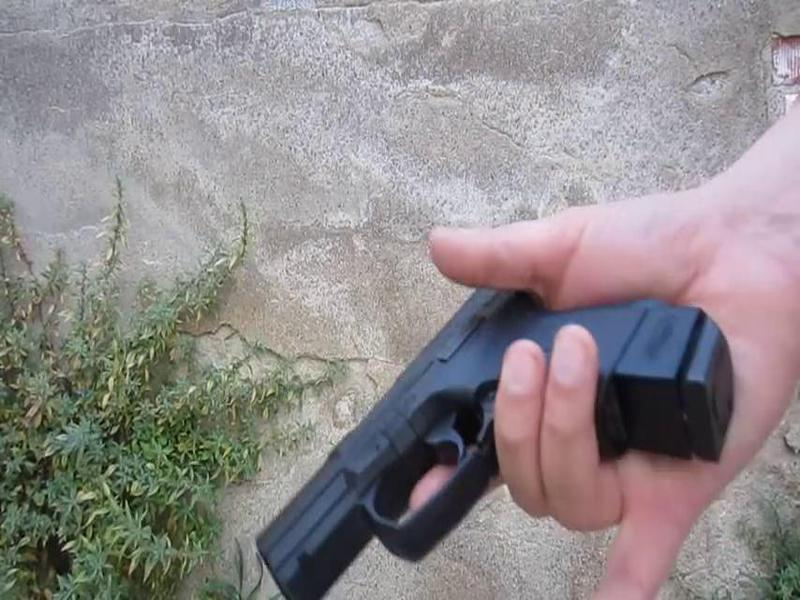Pistola: (248, 277, 742, 599)
